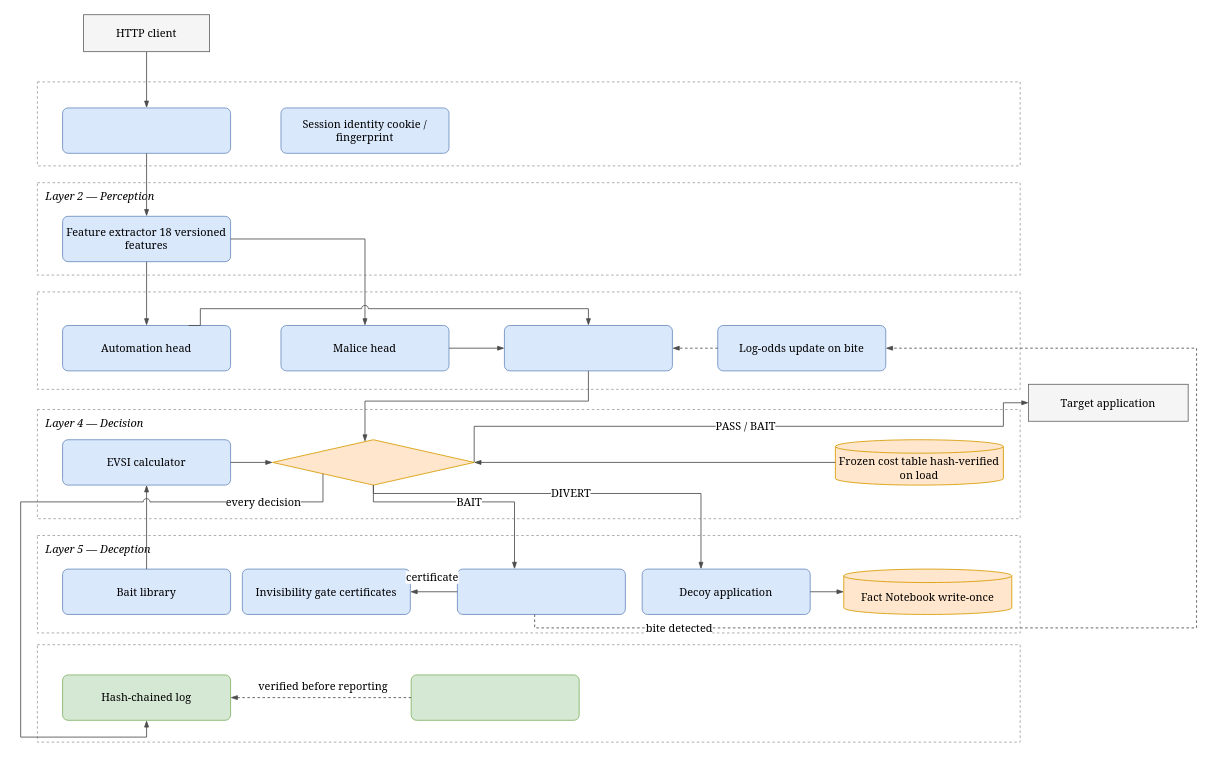
The diagram is 1218 pixels wide and 759 high, and some of its shapes have lost their labels. The shapes that lost their labels are listed below. From the top down, each one's box as (x1, y1, x2, y2) in pixels, then its label:
(62, 107, 231, 153): Reverse proxy fail-open boundary
(37, 81, 1020, 166): Layer 1 — Edge
(37, 291, 1020, 389): Layer 3 — Belief
(504, 325, 672, 371): Fusion → belief p
(272, 439, 474, 485): Policy PASS / BAIT / DIVERT
(457, 568, 625, 614): Bait engine
(410, 674, 579, 720): Freeze manifest
(37, 644, 1020, 742): Layer 6 — Evidence
